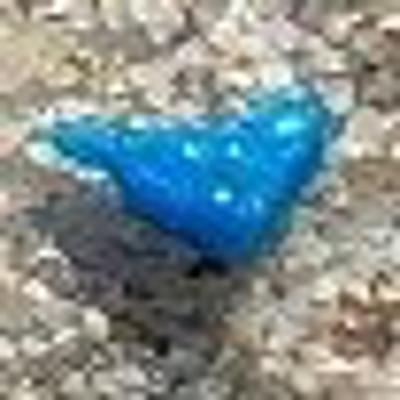plastic: (33, 70, 331, 267)
